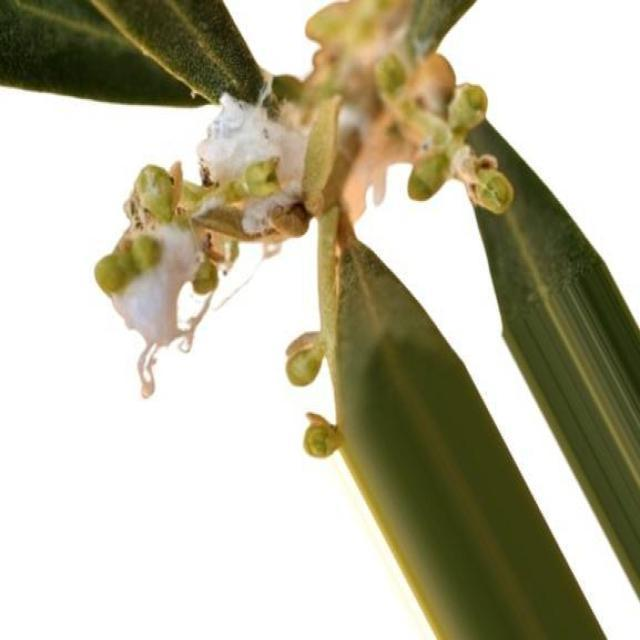Psyllid: (96, 0, 452, 396)
